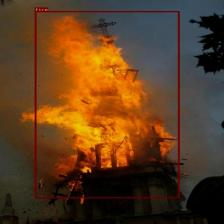fire: (34, 11, 180, 198)
